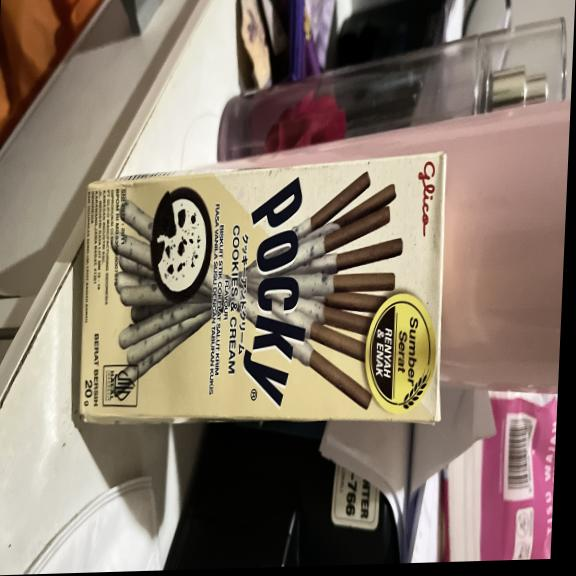Kertas: (76, 152, 447, 426)
